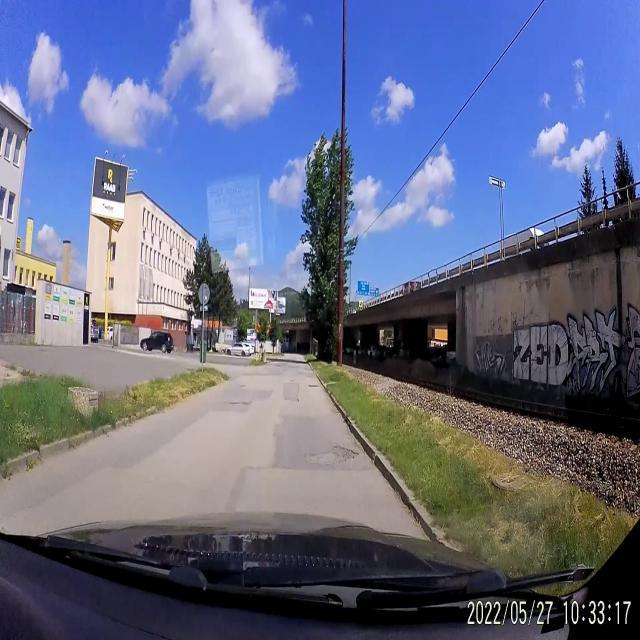Manhole: (308, 381, 320, 394)
Pothole: (306, 442, 356, 473)
